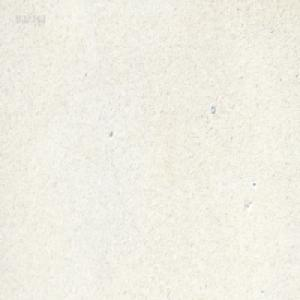Washer: (210, 103, 215, 114)
